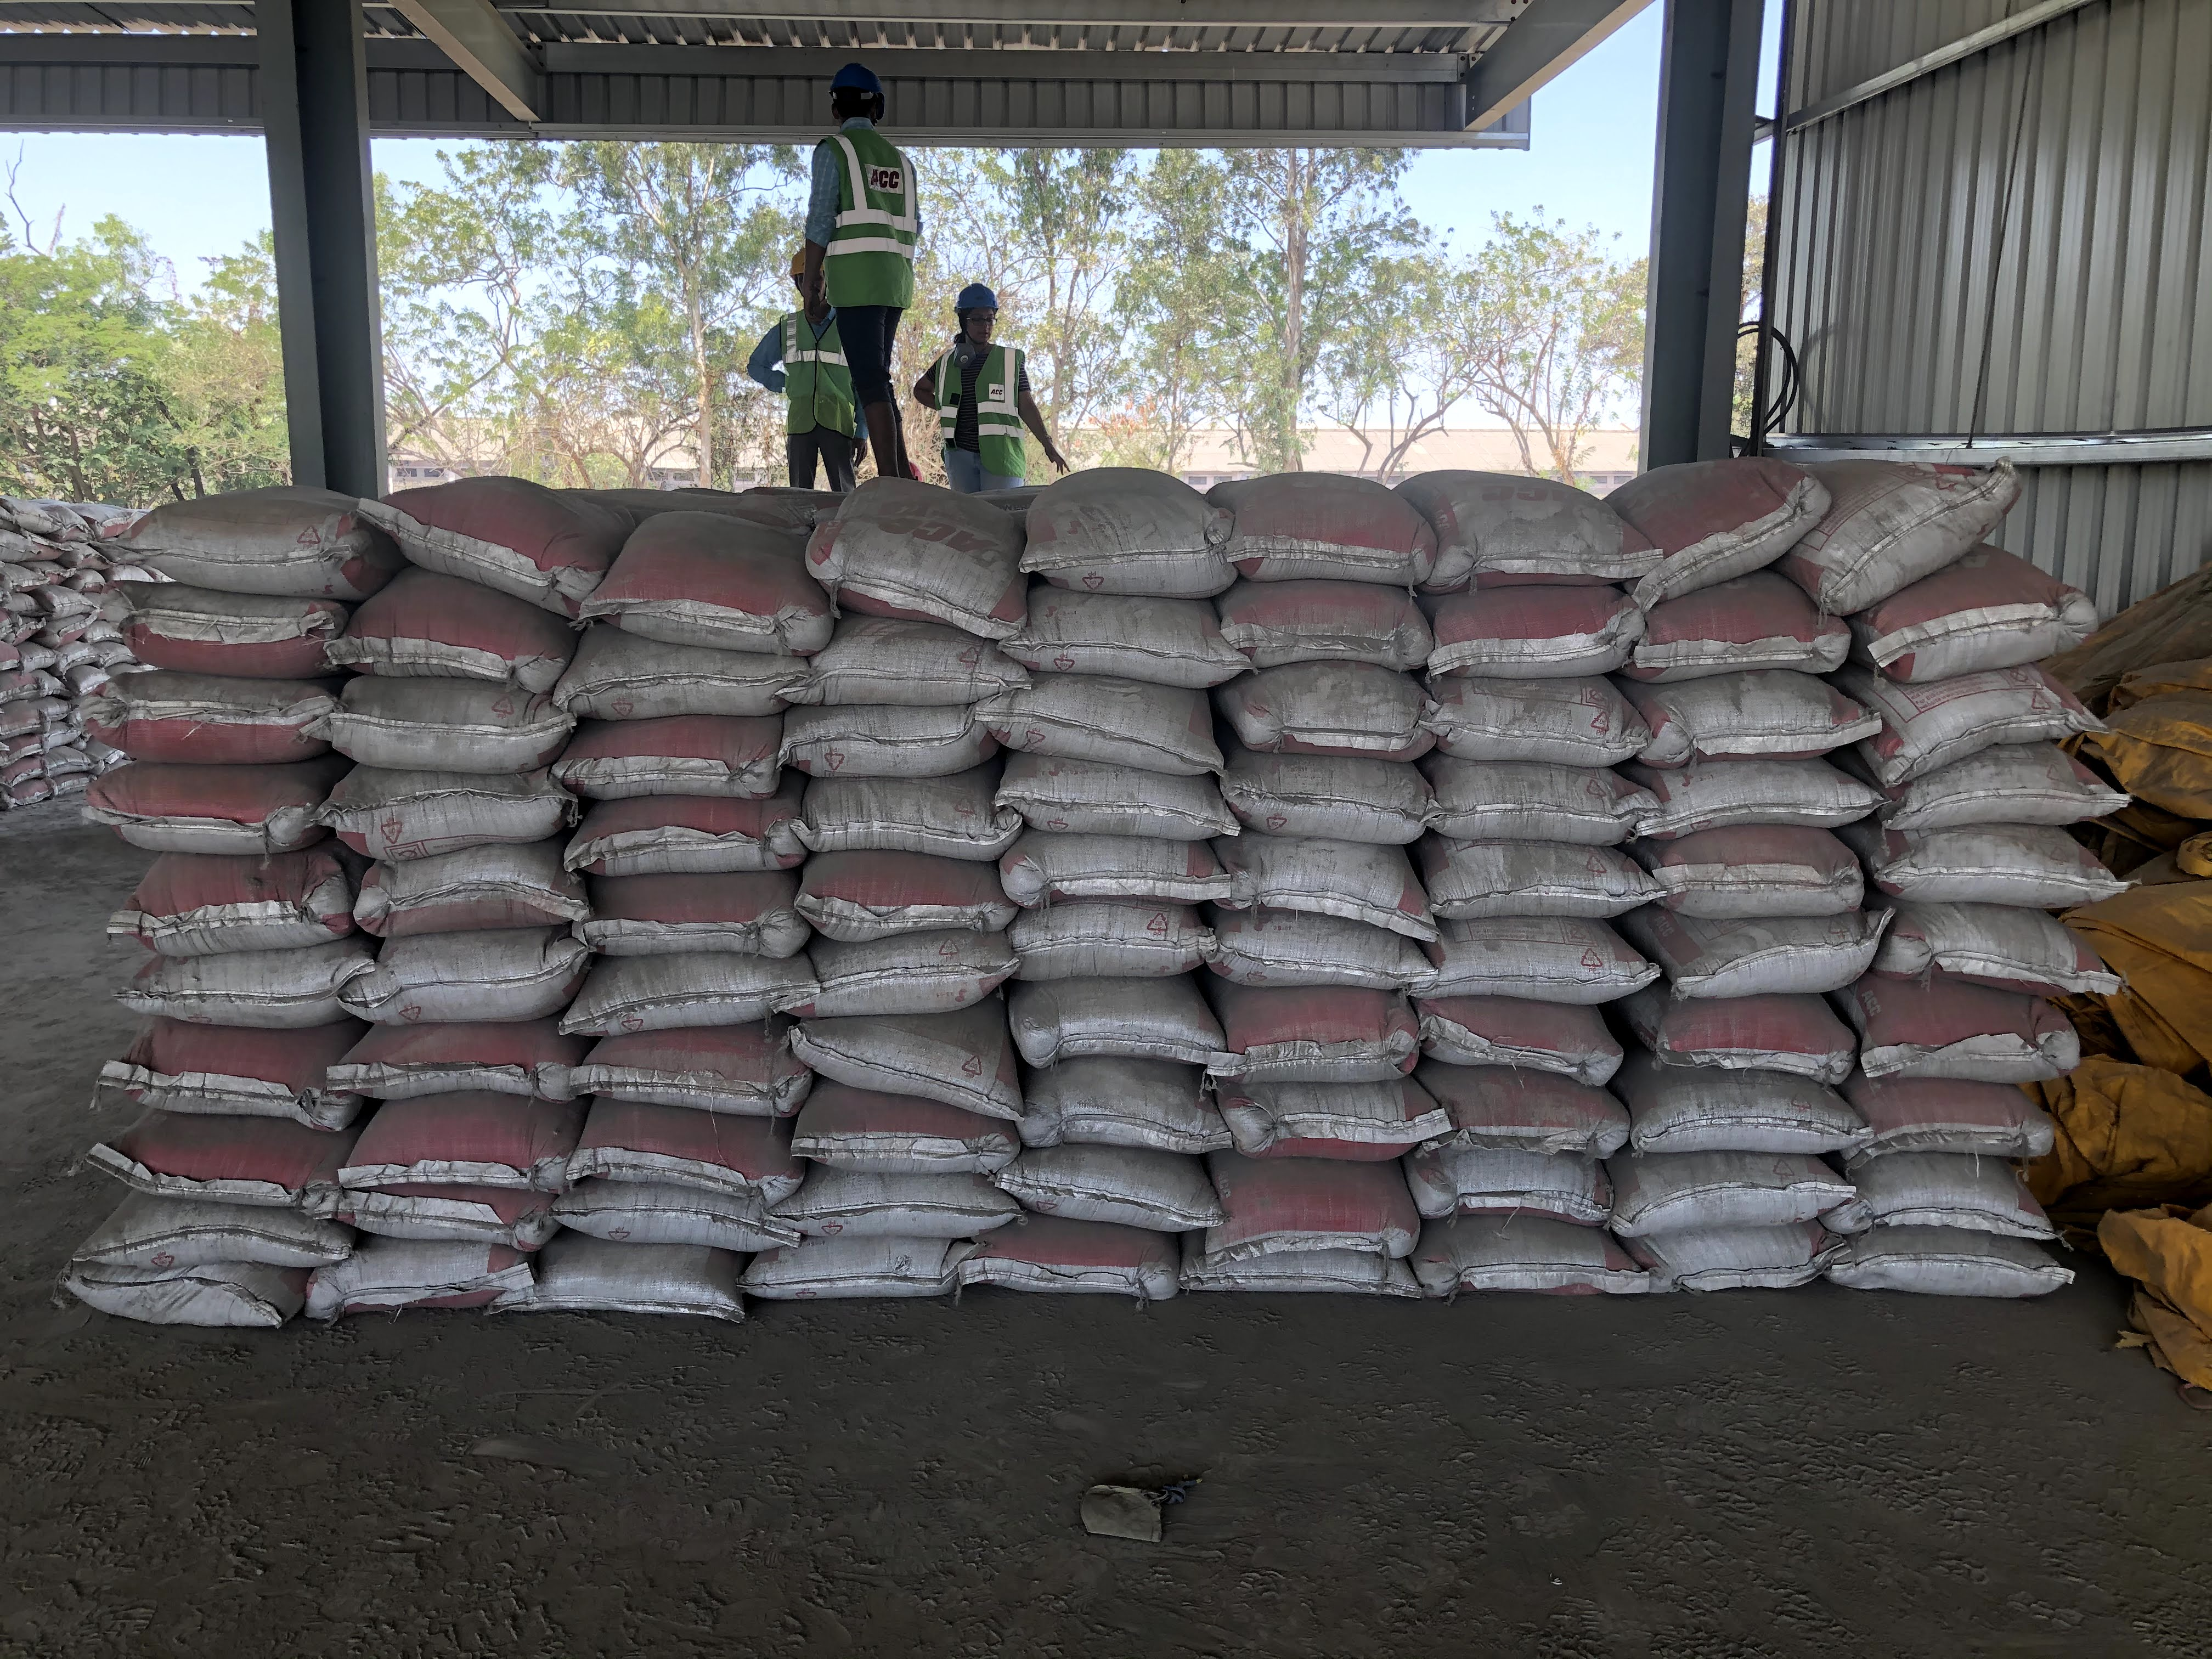cement bag: (1791, 448, 2027, 612), (359, 474, 608, 620), (590, 504, 833, 652), (110, 476, 383, 605), (806, 479, 1035, 631), (1851, 542, 2106, 678), (1583, 453, 1822, 596), (1392, 467, 1662, 591), (94, 1016, 373, 1133), (94, 845, 364, 957), (327, 573, 568, 697), (1015, 467, 1237, 599), (82, 1105, 343, 1216), (1844, 971, 2080, 1089), (68, 671, 343, 772), (777, 1011, 1029, 1121), (977, 669, 1233, 777), (317, 666, 575, 772), (1836, 667, 2094, 774), (1008, 584, 1258, 694), (1207, 826, 1442, 941), (981, 749, 1247, 850), (782, 1073, 1035, 1180), (1885, 890, 2118, 1006), (1888, 735, 2161, 833), (336, 1093, 578, 1201), (1190, 969, 1423, 1080), (1423, 667, 1663, 775), (1207, 476, 1432, 591), (556, 1098, 799, 1202), (1639, 904, 1900, 1002), (1212, 739, 1447, 847), (1399, 1211, 1662, 1307), (324, 929, 596, 1021), (1623, 667, 1878, 765), (1212, 655, 1444, 762), (1421, 826, 1669, 925), (1198, 1150, 1423, 1258), (557, 1026, 815, 1121), (1637, 821, 1872, 924), (314, 763, 580, 854), (1416, 915, 1663, 1012), (1420, 749, 1658, 850), (1630, 572, 1853, 680), (1874, 824, 2127, 918), (84, 758, 327, 854), (1411, 1061, 1642, 1161), (111, 941, 374, 1028), (1637, 988, 1867, 1087), (1195, 899, 1432, 995), (106, 589, 352, 681), (1211, 1072, 1456, 1164), (554, 634, 806, 723), (780, 770, 1026, 861), (543, 633, 803, 718), (1211, 575, 1433, 674), (995, 823, 1242, 911), (523, 1232, 751, 1328), (545, 951, 822, 1030), (779, 850, 1014, 943), (1843, 1073, 2073, 1168), (1000, 976, 1219, 1073), (1423, 587, 1649, 681), (571, 880, 824, 964), (1639, 756, 1897, 838), (1611, 1150, 1869, 1232), (1012, 1061, 1228, 1159), (70, 1197, 348, 1272), (326, 1021, 575, 1105), (1623, 1075, 1867, 1161), (554, 791, 805, 873), (1822, 1223, 2073, 1305), (761, 1164, 1017, 1244), (986, 1147, 1226, 1232), (1844, 1154, 2064, 1246), (786, 620, 1022, 706), (1411, 992, 1625, 1086), (542, 716, 792, 796), (308, 1234, 533, 1323), (355, 856, 597, 938), (538, 1178, 801, 1253), (42, 1260, 305, 1333), (996, 899, 1224, 983), (1399, 1140, 1622, 1225), (723, 1232, 989, 1302), (334, 1176, 554, 1258), (773, 704, 996, 784), (954, 1225, 1186, 1302), (1174, 1234, 1426, 1304), (808, 932, 1021, 1012), (1622, 1213, 1857, 1284)
